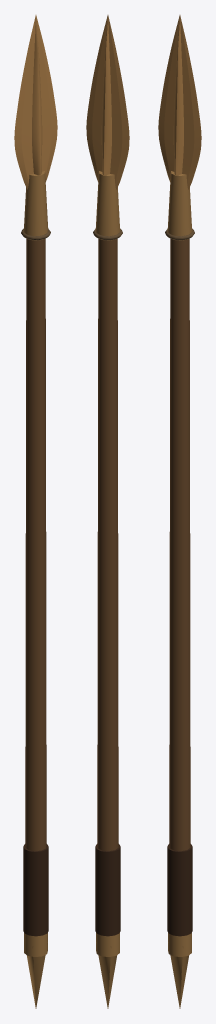
File: spear.glb
3 renders of one model, left to right at view 1: azimuth 30°, elevation 25°; view 2: azimuth 150°, elevation 25°; view 3: azimuth 330°, elevation 25°, orthographic.
Parts seen in each view (by area): view 1: shaft, spearhead, grip, socket, sauroter, sauroter-collar, socket-ring; view 2: shaft, spearhead, grip, socket, sauroter, sauroter-collar, socket-ring; view 3: shaft, spearhead, grip, socket, sauroter, sauroter-collar, socket-ring.
Boxes of the visible parts, bbox=[...] form: shaft: bbox=[25, 239, 46, 850]; spearhead: bbox=[14, 15, 57, 189]; grip: bbox=[23, 844, 48, 936]; socket: bbox=[23, 171, 48, 240]; sauroter: bbox=[26, 943, 47, 1008]; sauroter-collar: bbox=[24, 932, 47, 956]; socket-ring: bbox=[21, 228, 50, 240]; shaft: bbox=[97, 239, 118, 850]; spearhead: bbox=[86, 15, 129, 189]; grip: bbox=[95, 844, 120, 936]; socket: bbox=[95, 171, 120, 240]; sauroter: bbox=[96, 943, 117, 1008]; sauroter-collar: bbox=[96, 932, 119, 956]; socket-ring: bbox=[93, 228, 122, 240]; shaft: bbox=[169, 239, 190, 850]; spearhead: bbox=[158, 15, 201, 189]; grip: bbox=[167, 844, 192, 936]; socket: bbox=[167, 171, 192, 240]; sauroter: bbox=[168, 943, 189, 1008]; sauroter-collar: bbox=[168, 932, 191, 956]; socket-ring: bbox=[165, 228, 194, 240].
Bounding box in the file's own units: 0.0855 × 1.89 × 0.0507.
